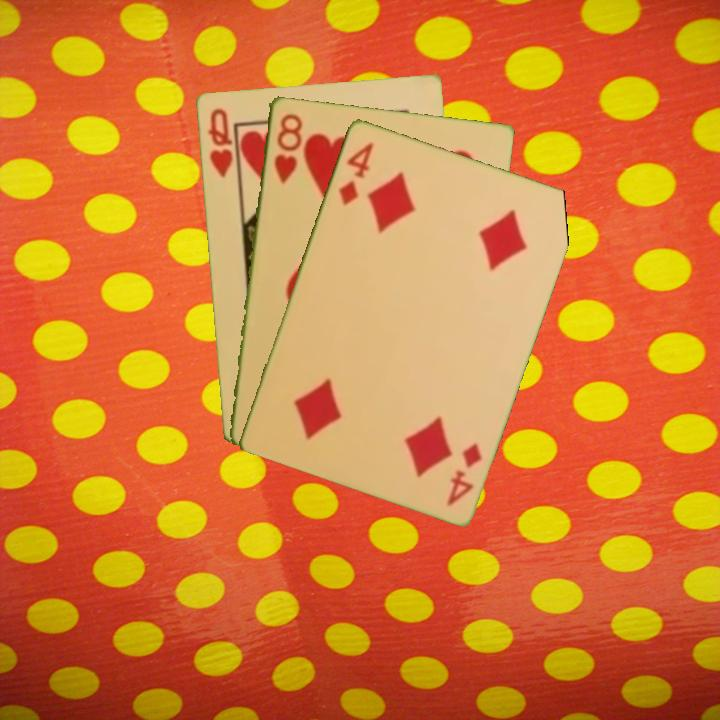4d: (442, 439, 485, 508), (335, 138, 376, 208)
8h: (270, 109, 304, 186)
Qh: (204, 104, 235, 180)
